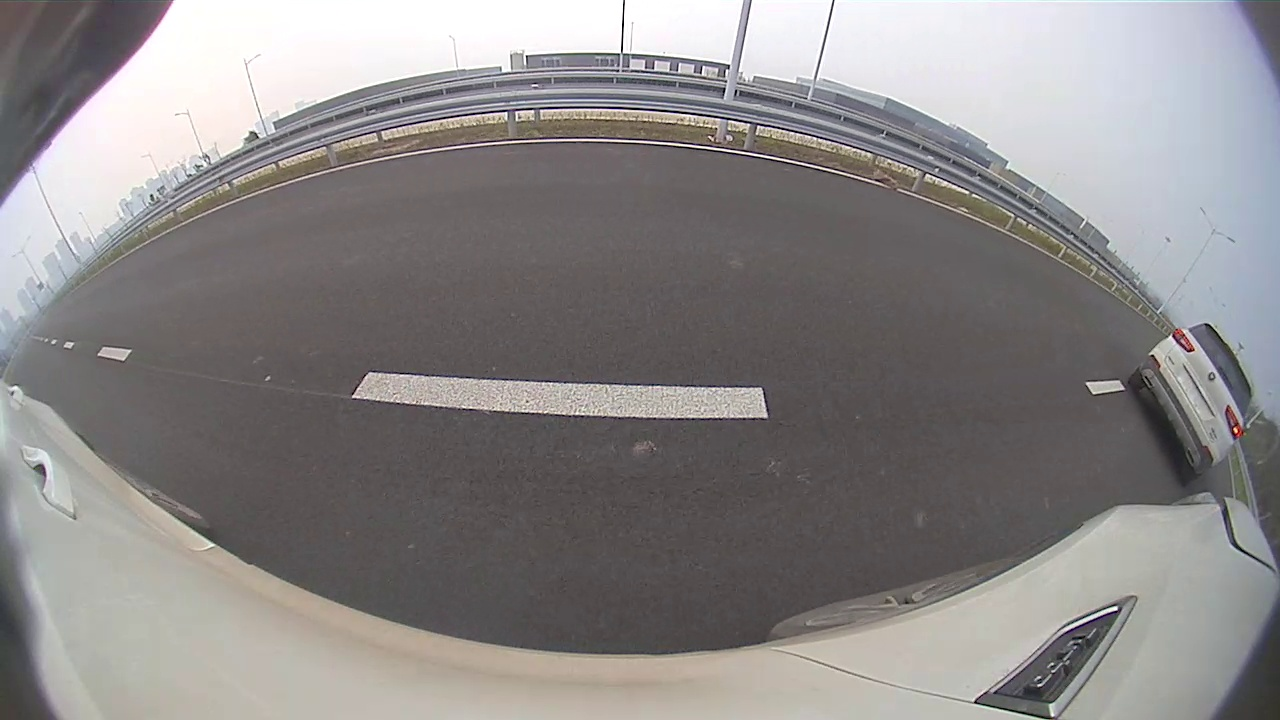car: (1126, 322, 1253, 487)
